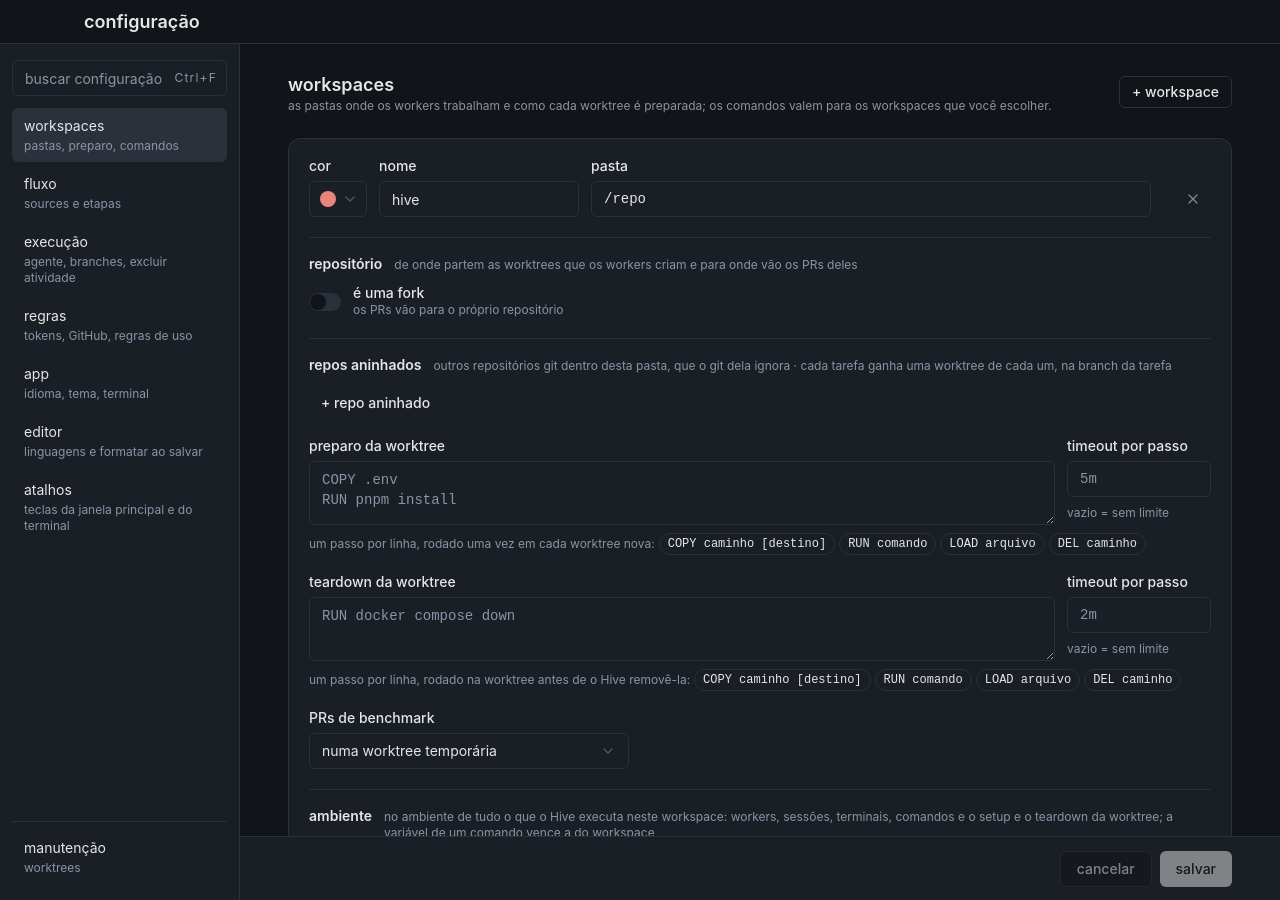
Test: the GitHub API card shows the freshest reading as points left, a bar of what is left, and the hint; the header switch lives there (#512)
This screenshot has width=1280, height=900.
What coordinates should you click on to do the following:
click the button "regras tokens, GitHub, regras de uso"
I would click on:
 (120, 325)
Its box is [12,298,227,352].
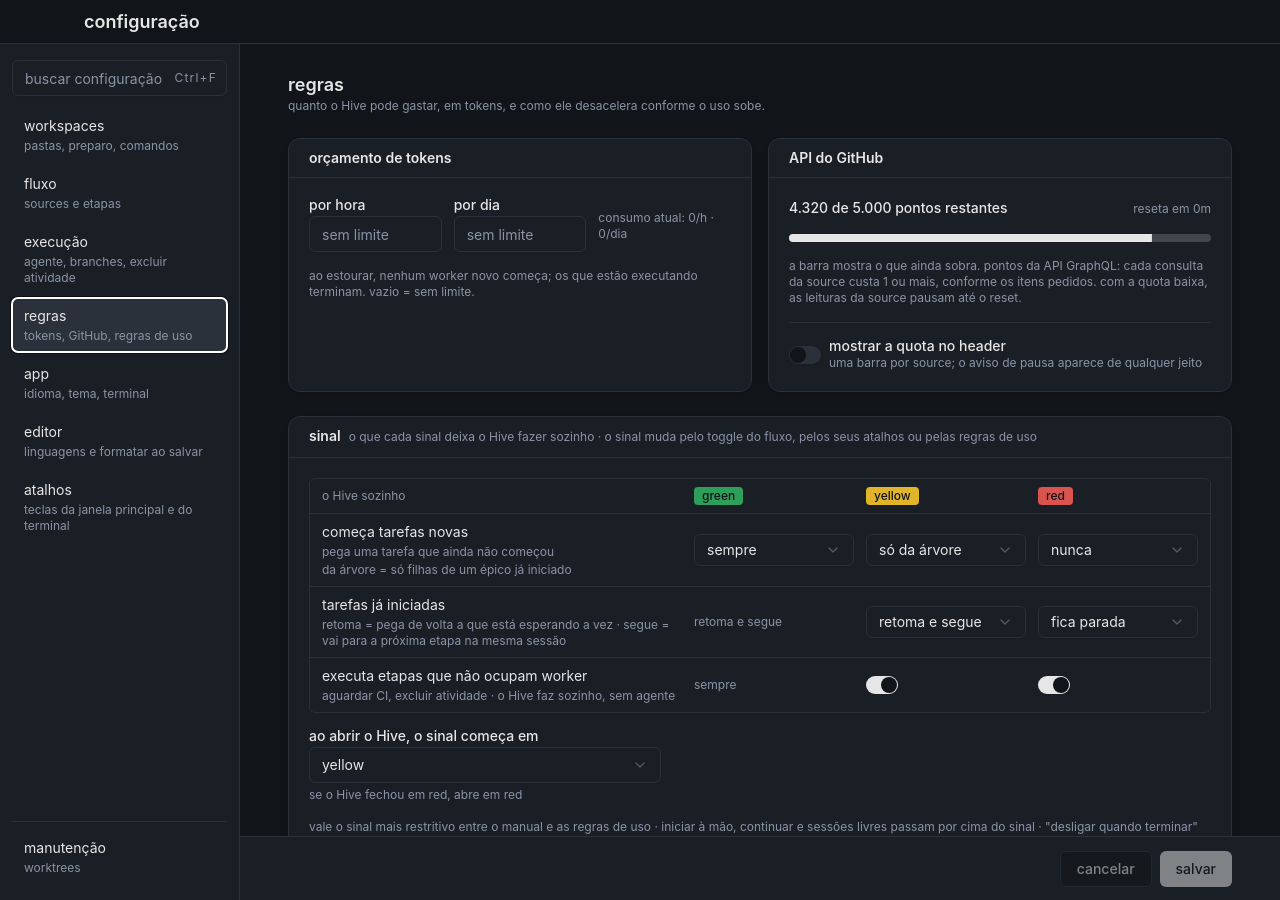
Check: the text "4.320 de 5.000 pontos restantes" is shown, box [789,198,1008,218]
Check: the text "reseta em 0m" is shown, box [1133,201,1211,217]
Check: the text "a barra mostra o que ainda sobra. pontos da API GraphQL: cada consulta da source custa 1 ou mais, conforme os itens pedi" is shown, box [789,258,1208,305]
